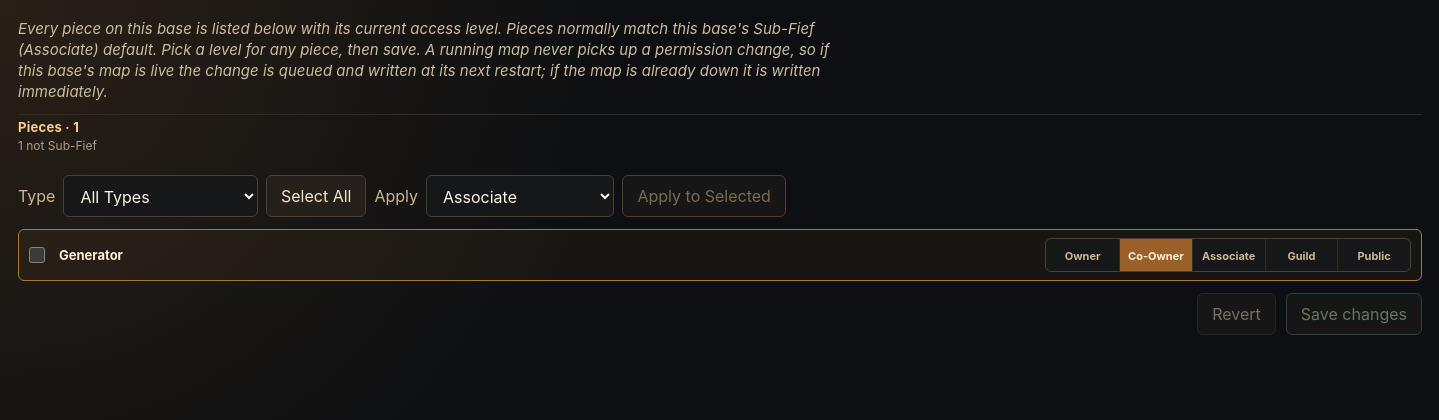
Test case: BaseChildPermissionsTab › Apply to Selected stages checked rows to the chosen level, defaulting to Associate
Click the checkbox named "Select Generator": (37, 255) [29, 247, 45, 263]
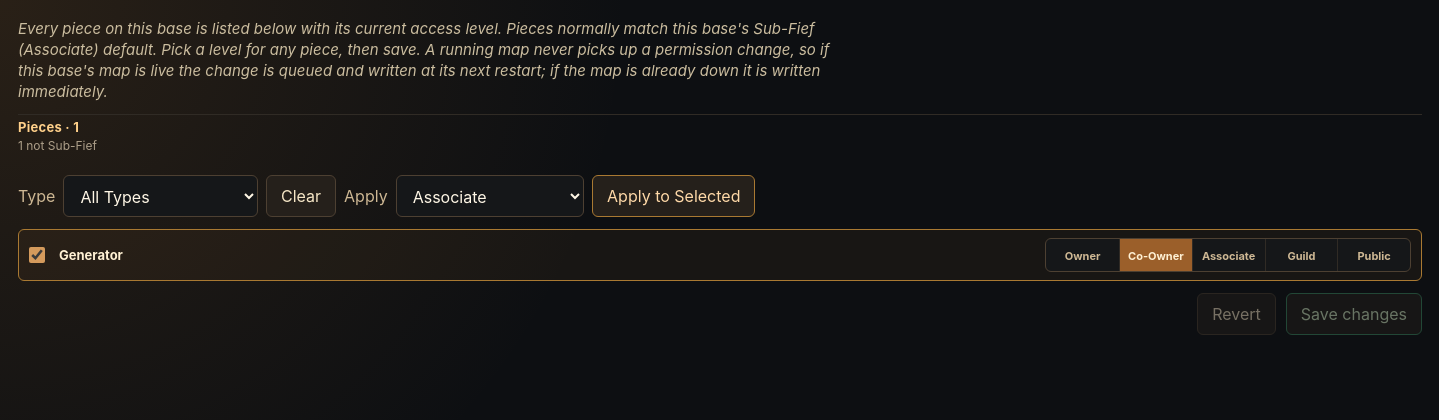
Click the button "Apply to Selected": (674, 196) [592, 175, 756, 217]
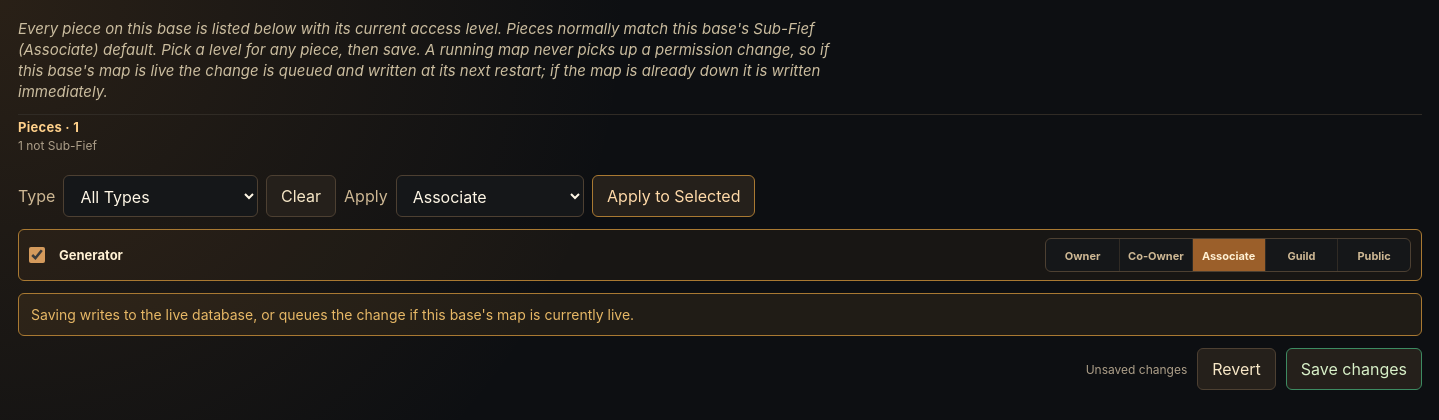
Now the radio button with aria-label "Associate for Generator" is checked, box [1192, 239, 1265, 272]
